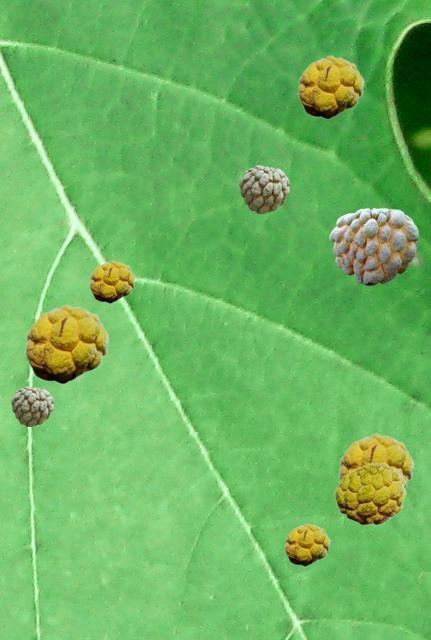atis: (329, 208, 417, 284), (24, 304, 108, 383), (334, 462, 405, 524), (297, 55, 363, 118), (338, 433, 413, 488), (239, 165, 288, 212), (89, 260, 134, 302), (284, 523, 329, 565), (11, 386, 52, 425)
